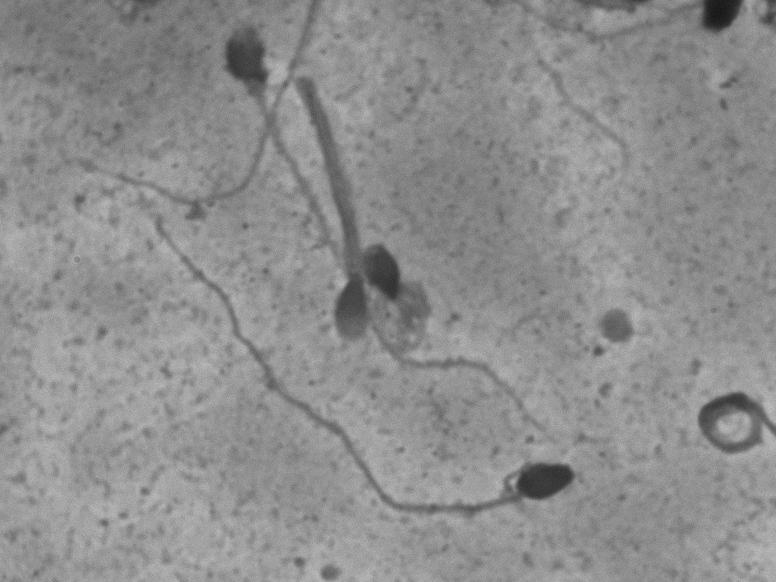Abnormal: (283, 56, 473, 359), (275, 383, 607, 537)
